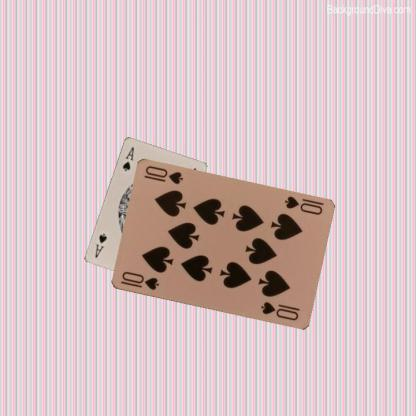10s: (118, 269, 160, 292), (282, 194, 324, 216)
As: (120, 144, 135, 172)
